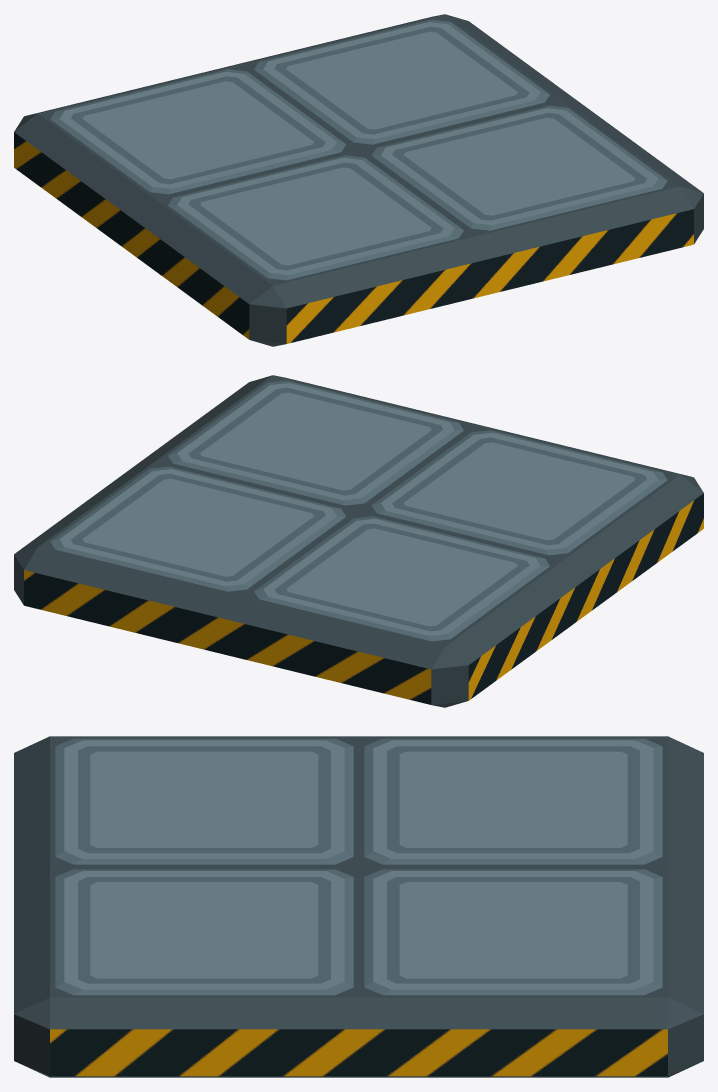
File: Floor_01.fbx
The picture shows the model from 3 angles, top to bottom: view 1: azimuth 30°, elevation 25°; view 2: azimuth 150°, elevation 25°; view 3: azimuth 270°, elevation 25°; orthographic projection. The views are drawn at different scales.
Visible parts, largest first — view 1: Floor_01; view 2: Floor_01; view 3: Floor_01.
Part boxes in pixels (<box>): Floor_01: <box>14,14,703,346</box>; Floor_01: <box>14,375,703,707</box>; Floor_01: <box>14,736,703,1077</box>.
Bounding box in the file's own units: 400 × 400 × 52.51.
